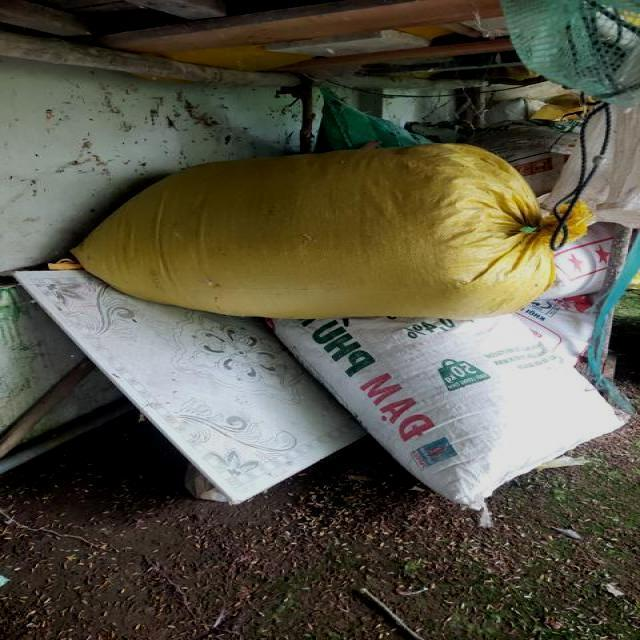gunny_bag: (71, 144, 556, 320), (273, 315, 625, 512)
